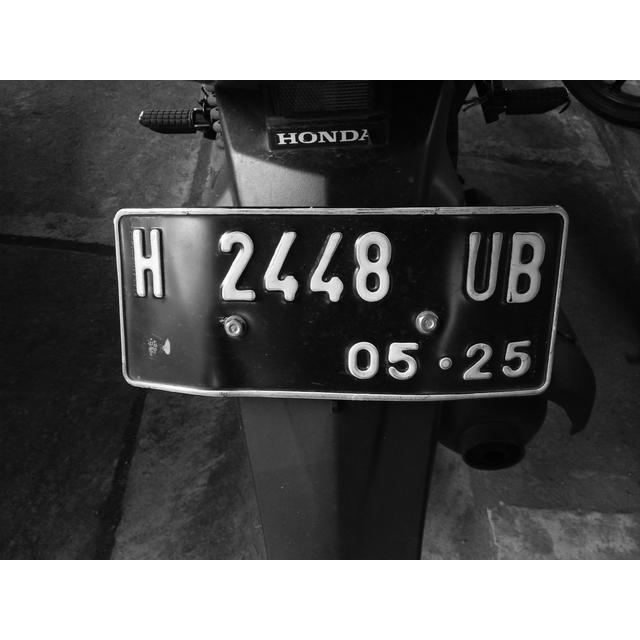license: (124, 218, 547, 390)
